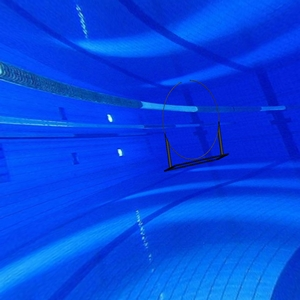circle: (162, 78, 233, 175)
